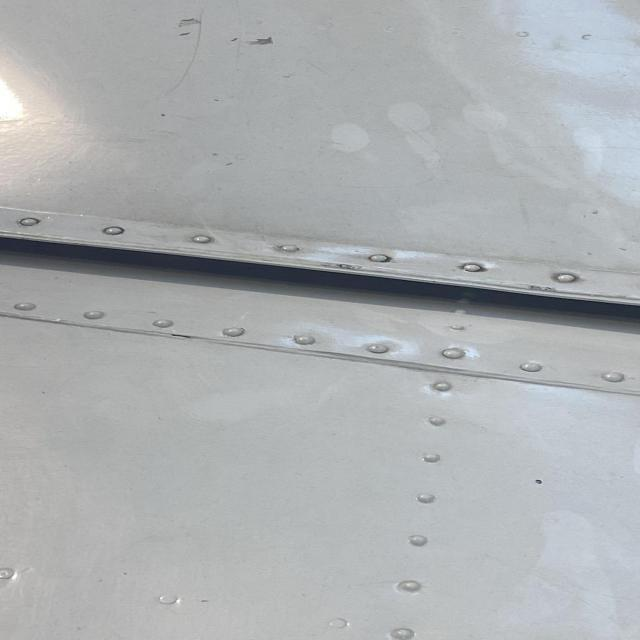Paint-off: (223, 27, 290, 51), (175, 15, 201, 36)
